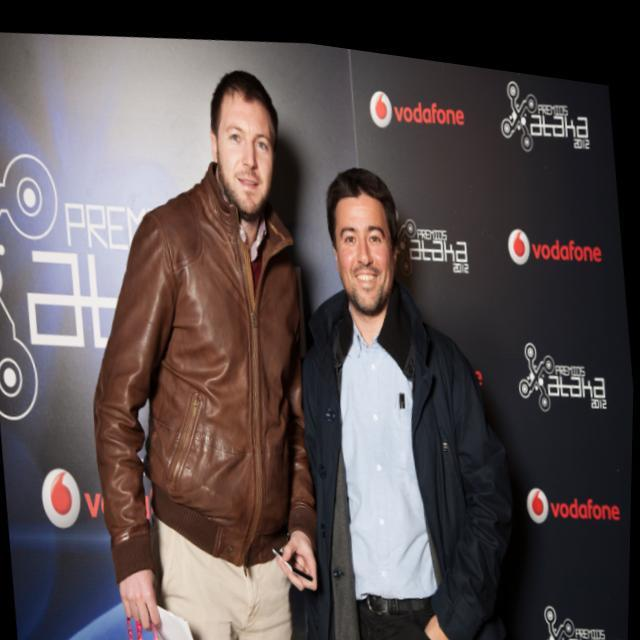Nonhelmet: (322, 165, 413, 316), (203, 62, 285, 220)
